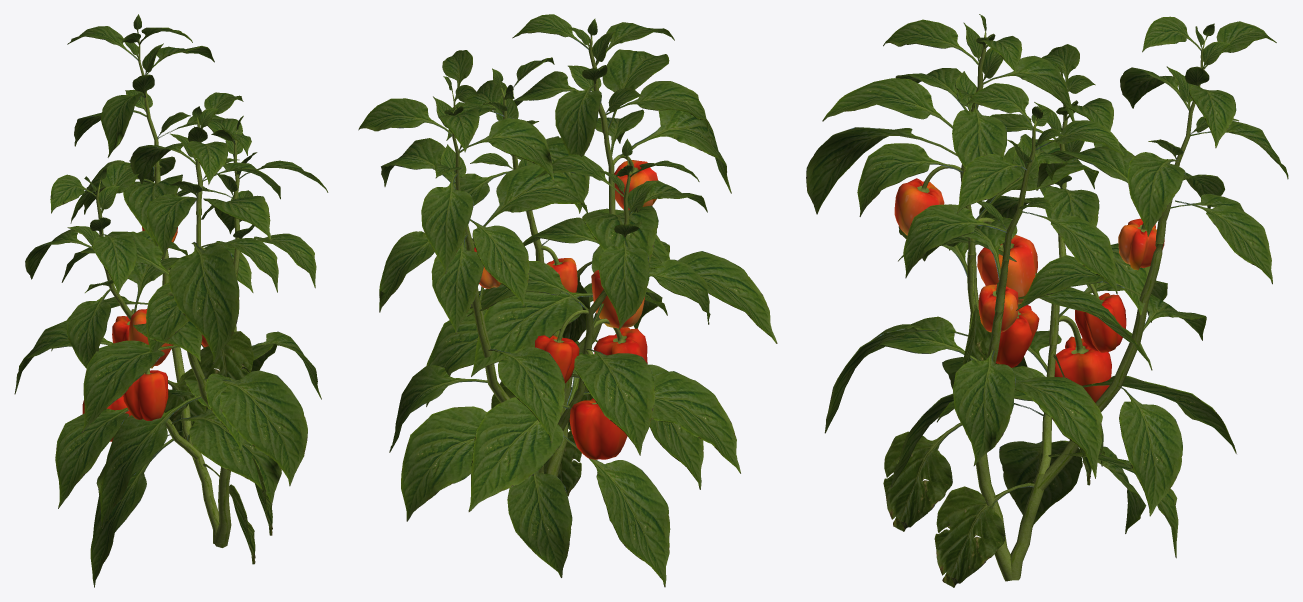
Rendered from VG07_6_more_occ.dae.
3 views of the same model, side by side, from view 1: azimuth 30°, elevation 25°; view 2: azimuth 150°, elevation 25°; view 3: azimuth 270°, elevation 25° (orthographic). The views are drawn at different scales.
Parts seen in each view (by area): view 1: VG07_6; view 2: VG07_6; view 3: VG07_6.
Part boxes in pixels (x1,y1,x2,y2): VG07_6: (14, 14, 328, 587); VG07_6: (358, 14, 777, 587); VG07_6: (806, 14, 1288, 587).
Size of the model in its own units: 18.33 by 24.62 by 32.95.
5 materials, 5 textured.
